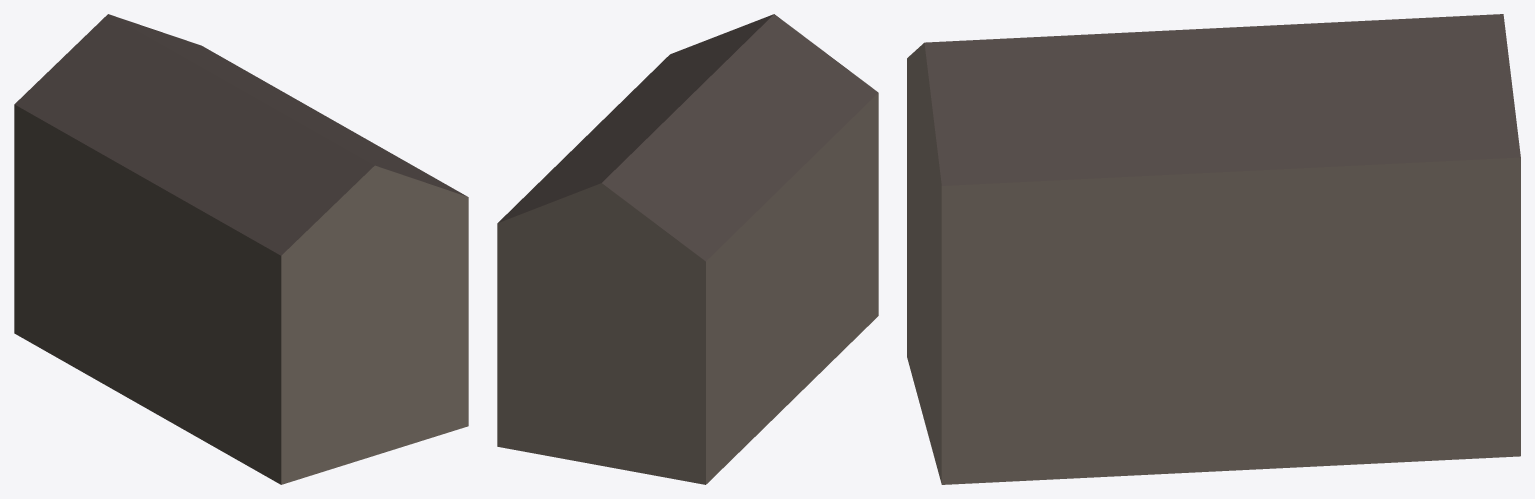
3 views of the same model, side by side, from view 1: azimuth 30°, elevation 25°; view 2: azimuth 150°, elevation 25°; view 3: azimuth 270°, elevation 25° (orthographic). The views are drawn at different scales.
Parts seen in each view (by area): view 1: HP-w1424106437; view 2: HP-w1424106437; view 3: HP-w1424106437.
Part boxes in pixels (x1,y1,x2,y2): HP-w1424106437: (14,14,468,484); HP-w1424106437: (497,14,878,484); HP-w1424106437: (907,14,1520,484).
Size of the model in its own units: 6.73 by 7.6 by 11.16.
